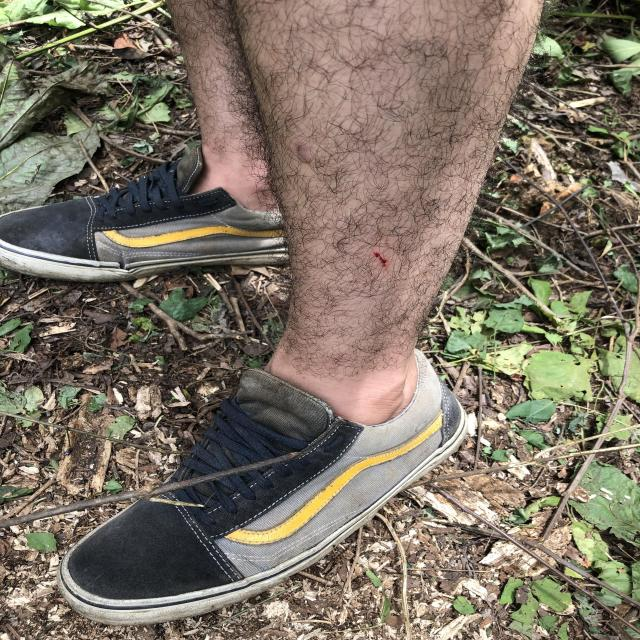shoe: (52, 336, 493, 634), (1, 133, 307, 297)
